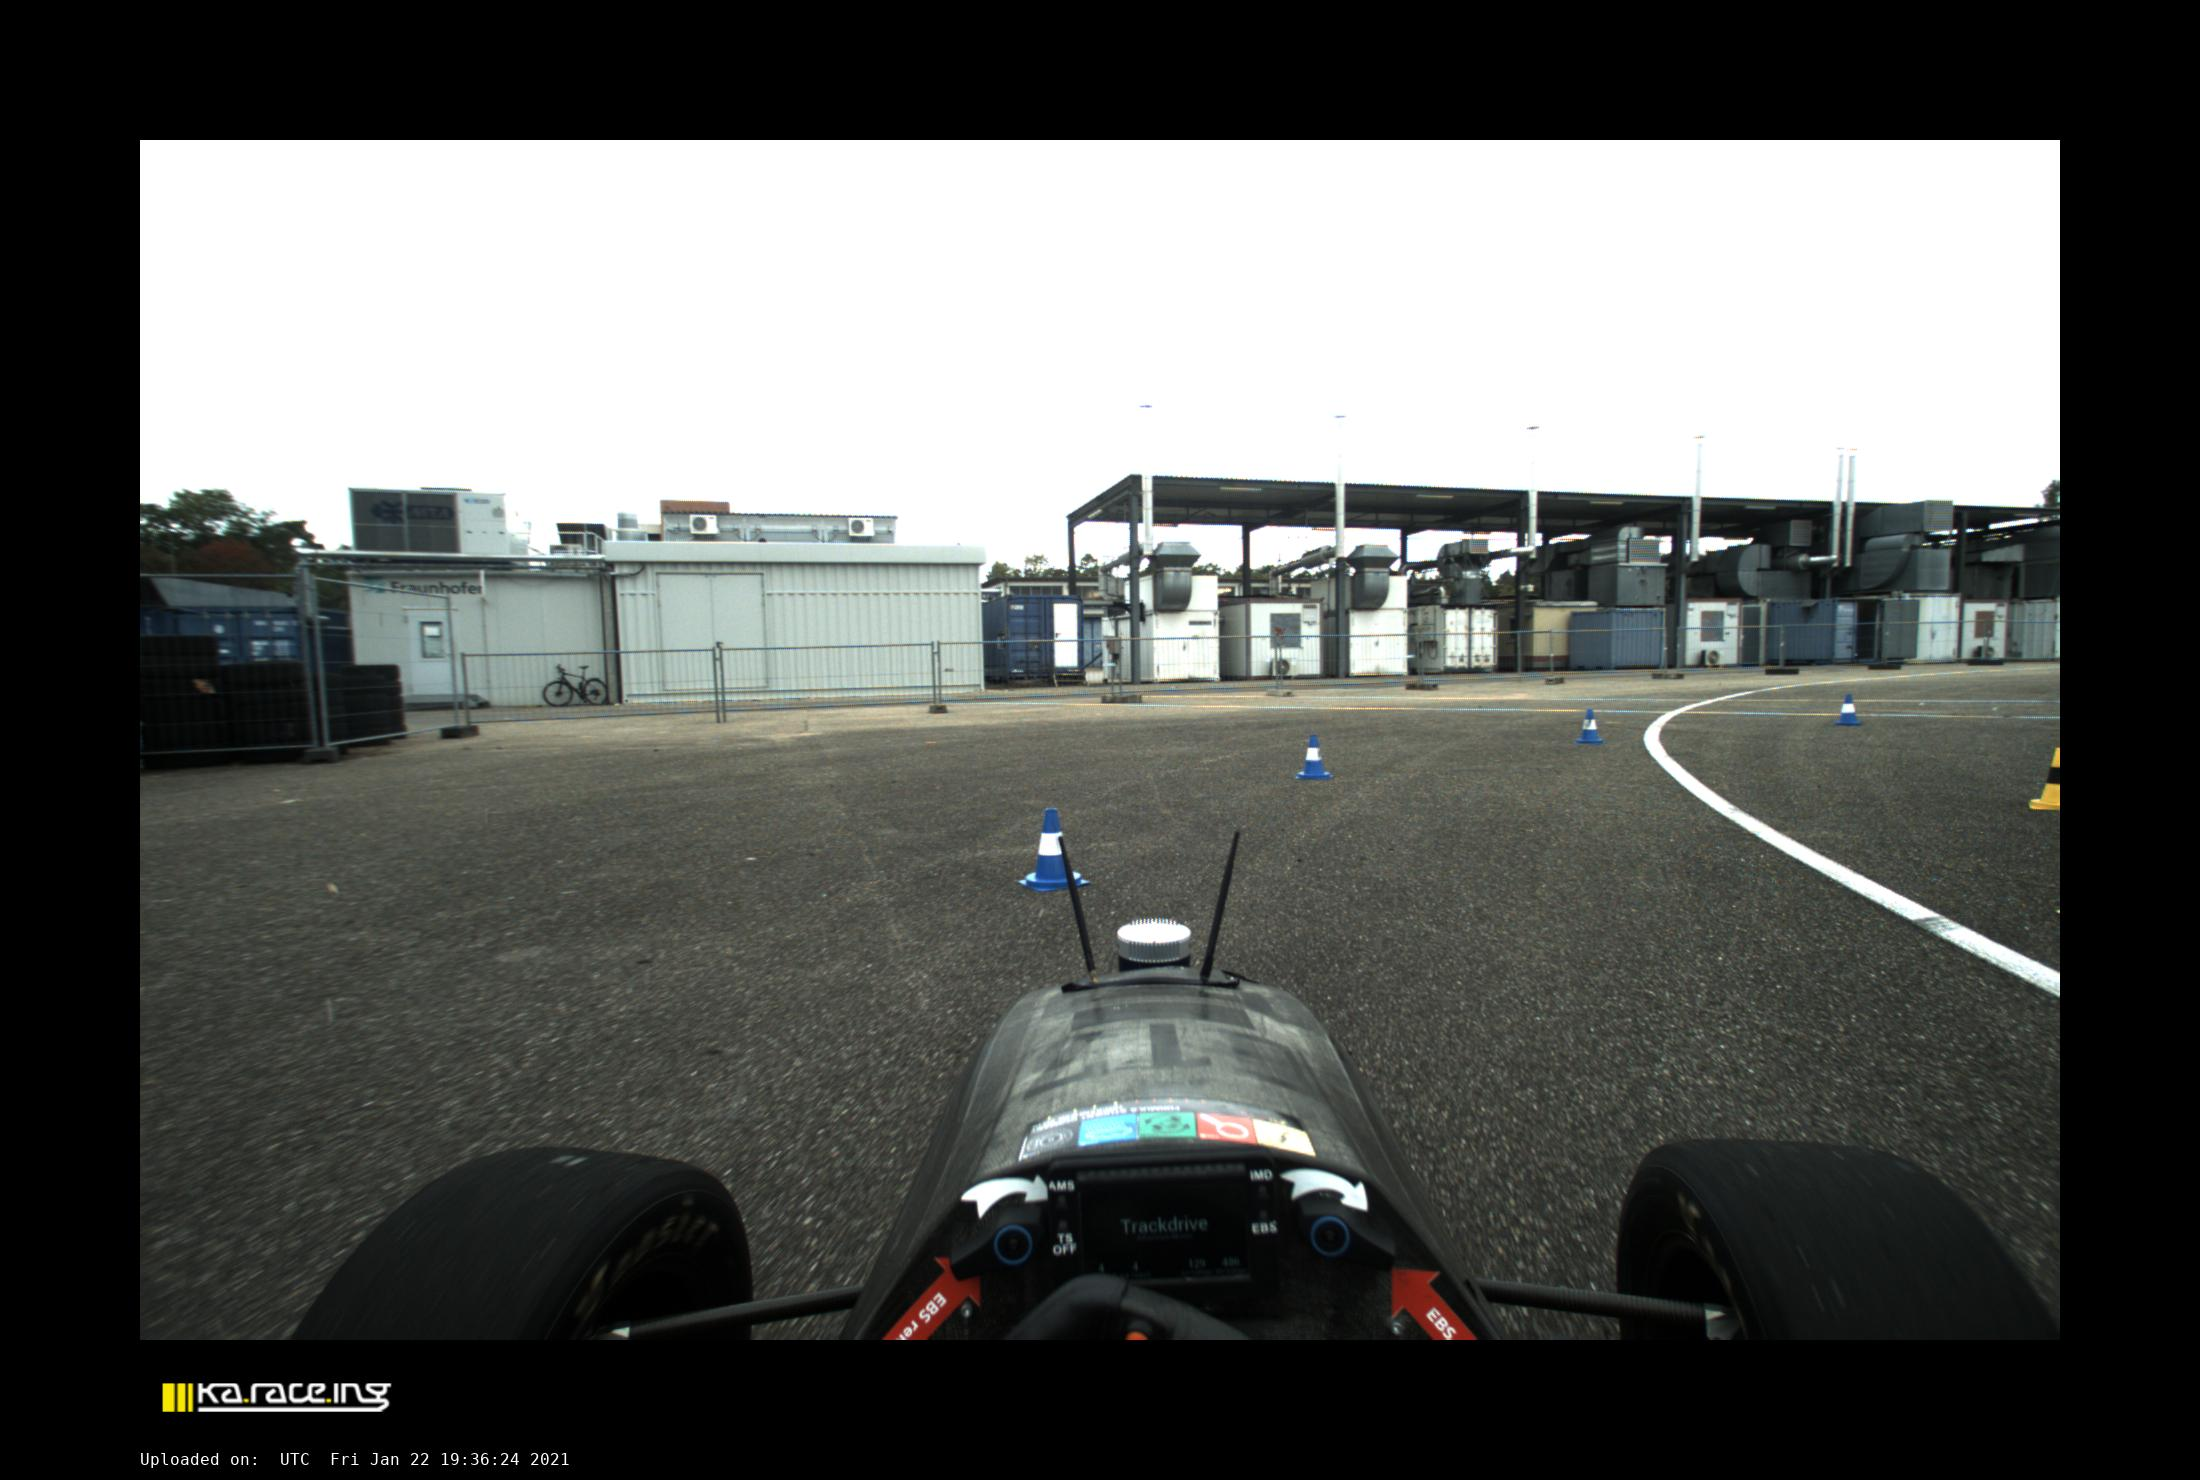blue_cone: (1018, 808, 1088, 891), (1296, 734, 1333, 780), (1575, 709, 1604, 744), (1835, 694, 1861, 726)
yellow_cone: (2030, 748, 2060, 810)
